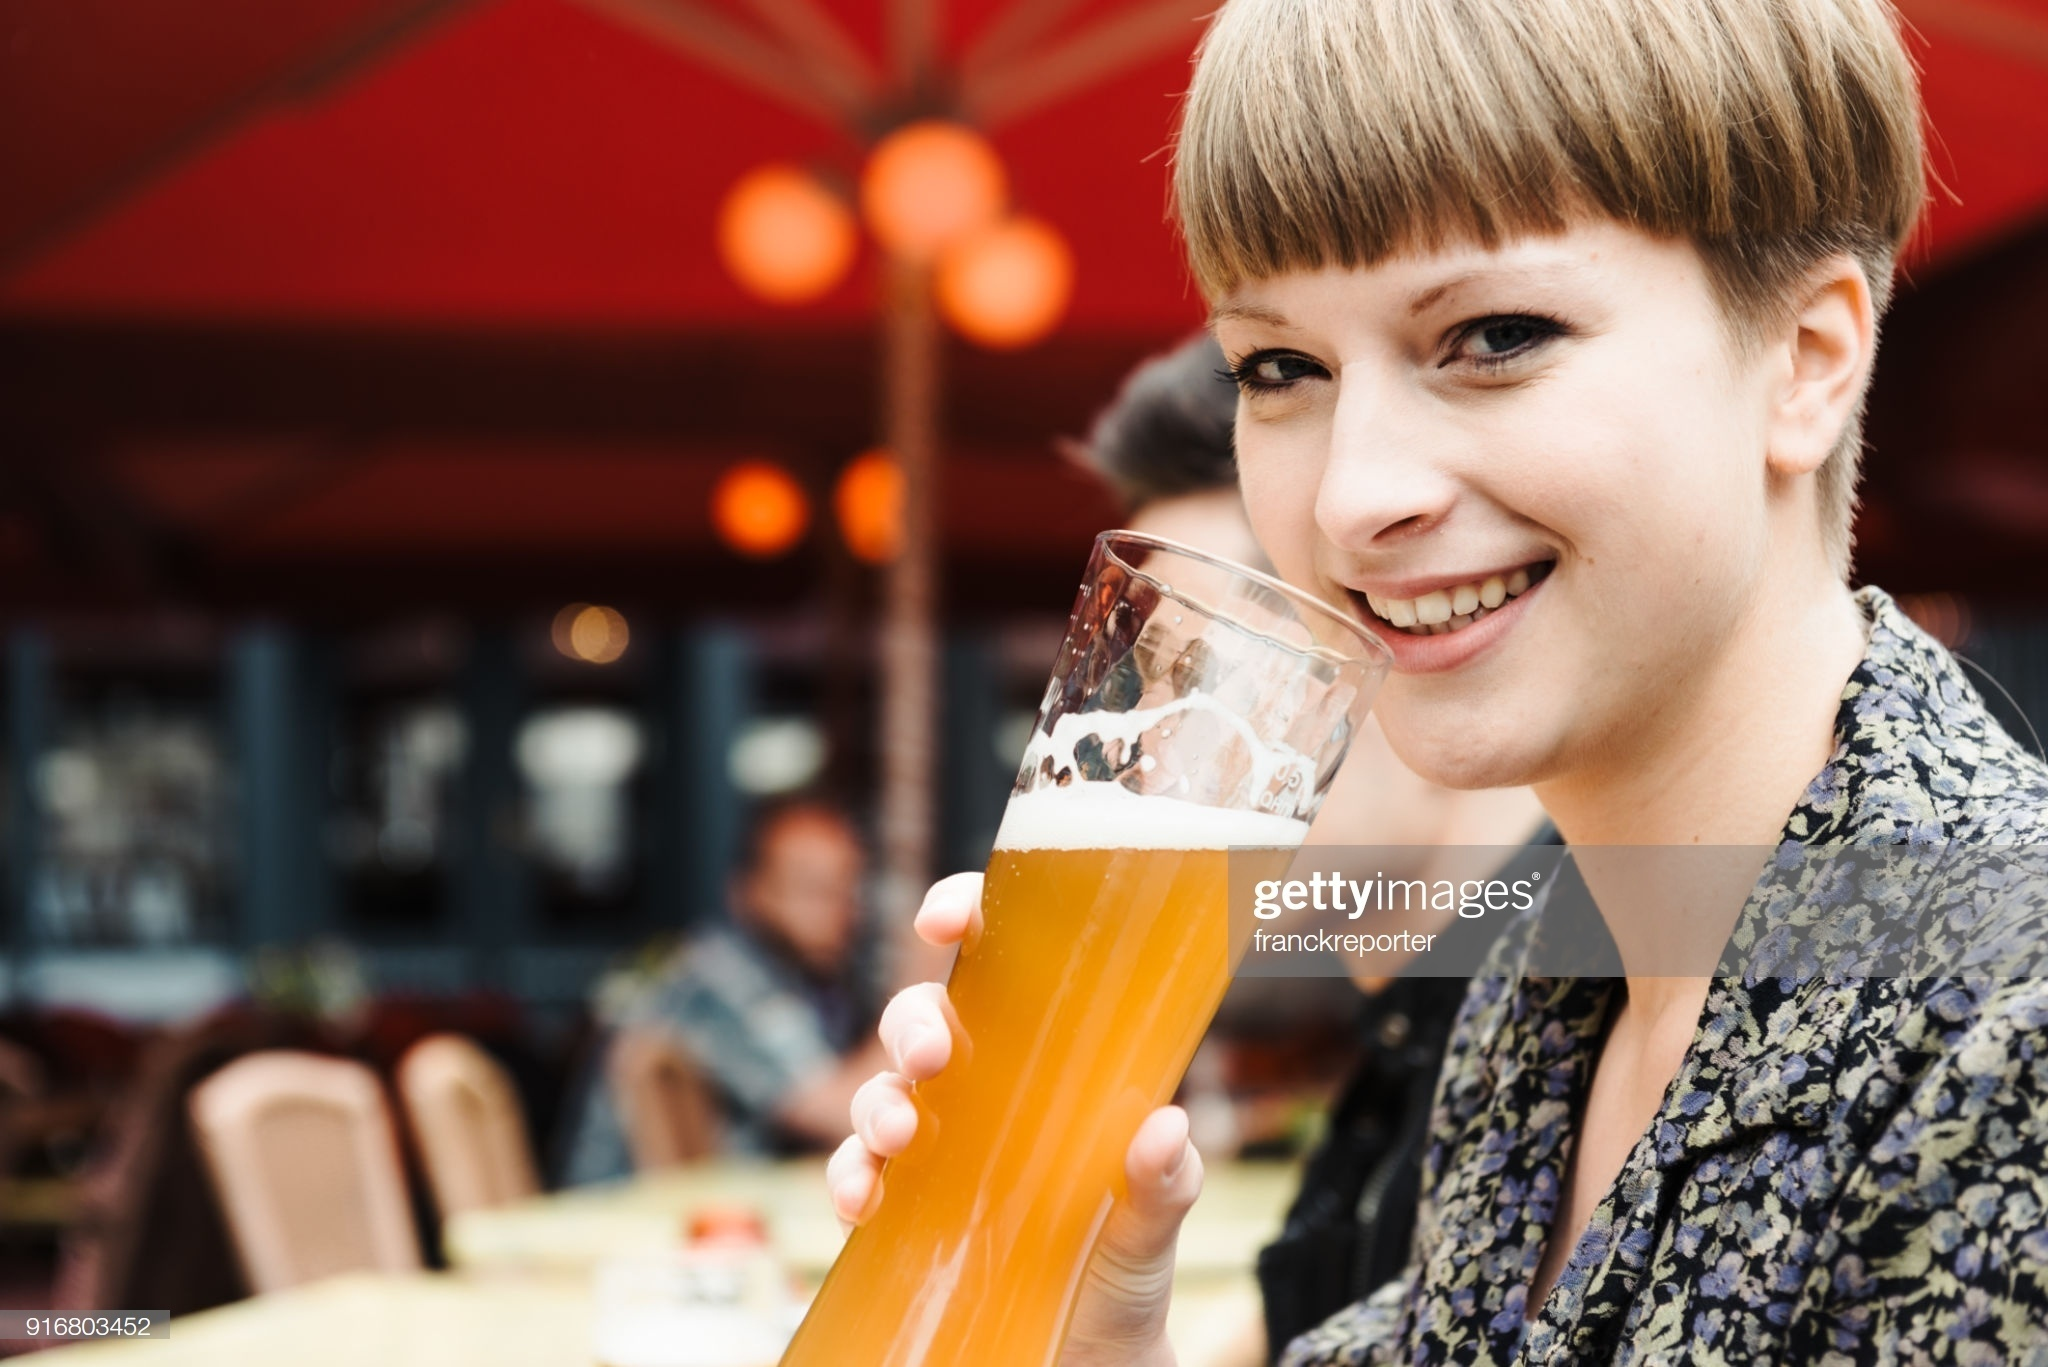whiskey: (753, 528, 1375, 1367)
